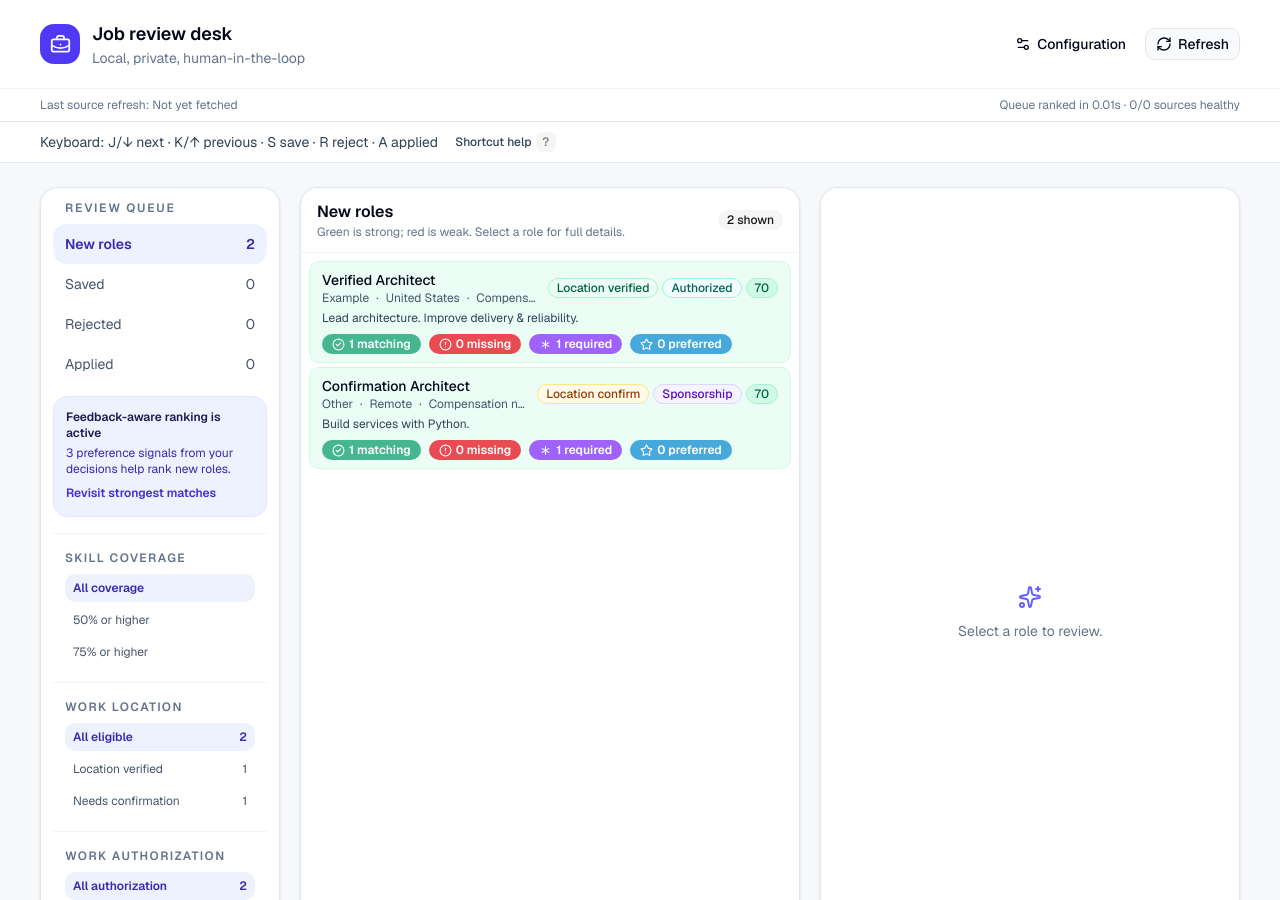
Scenario: review queue interactions › drills into distinct roles from the selected company and returns to the queue
Click the button "Verified Architect": [550, 312] box [309,261,791,363]
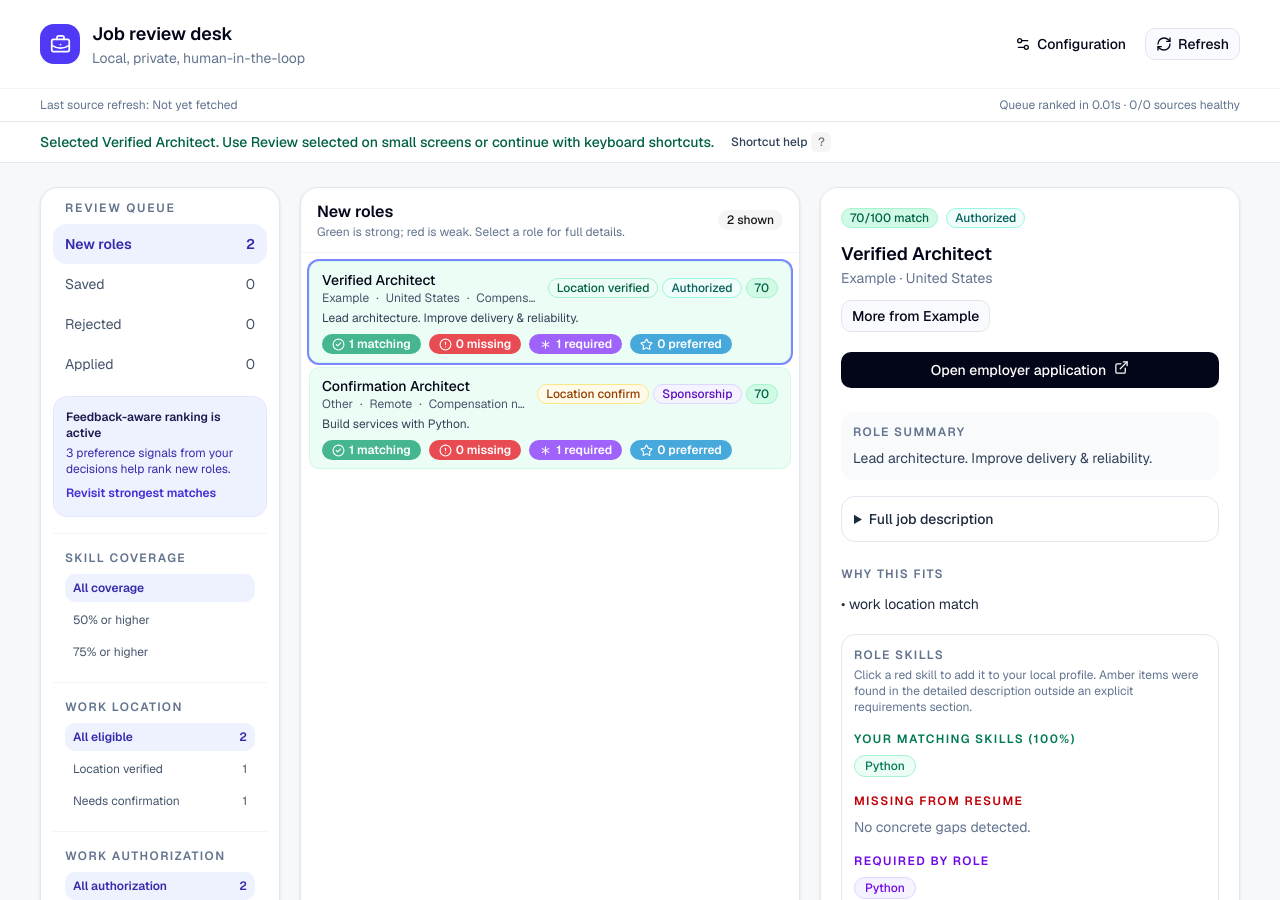
Click the button "More from Example": [916, 316] box [841,300,990,332]
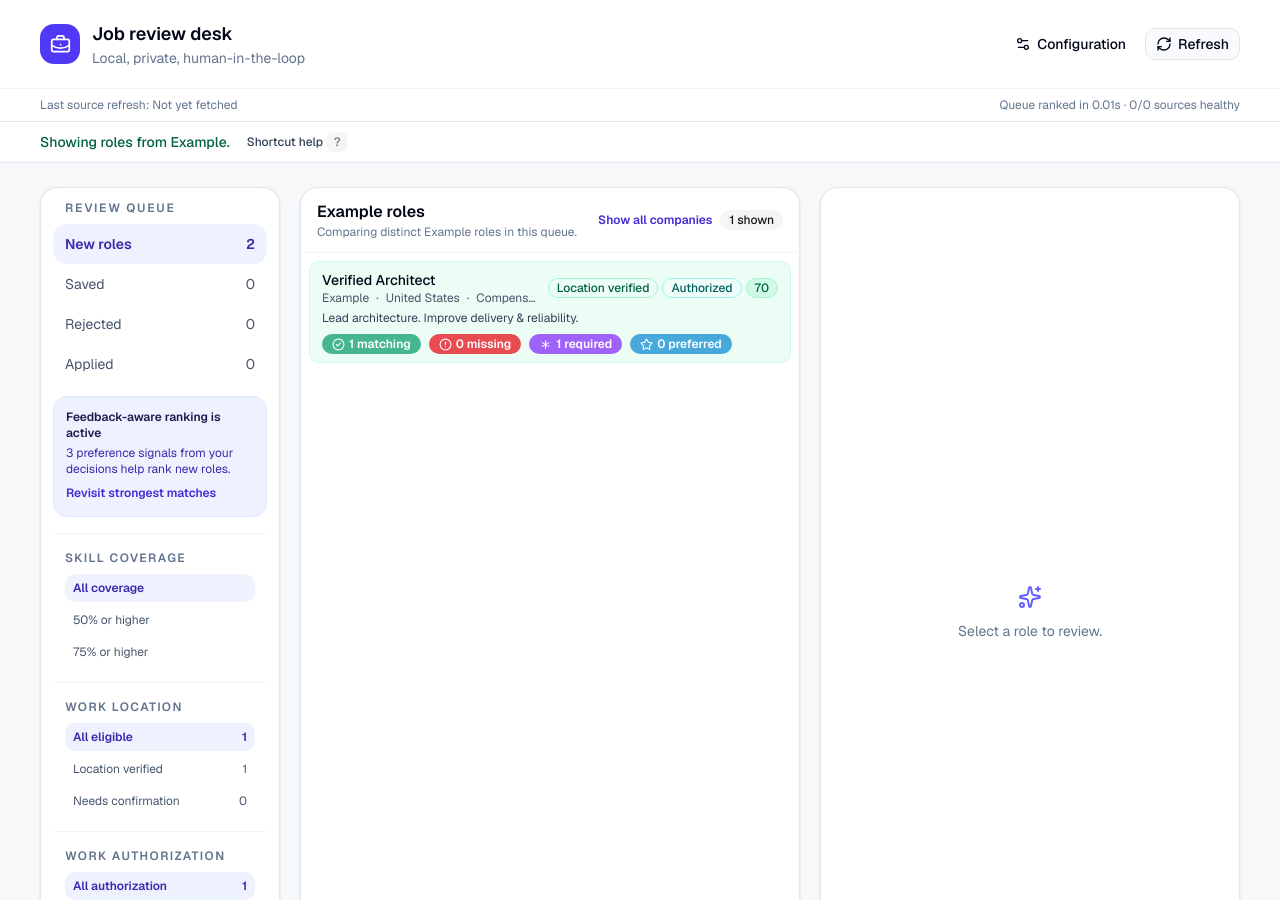
Expected: the heading "Example roles" is shown, [317,201,425,222]
Expected: the button "Confirmation Architect" is gone
Click the button "Show all companies": [655, 220] box [598,212,712,228]
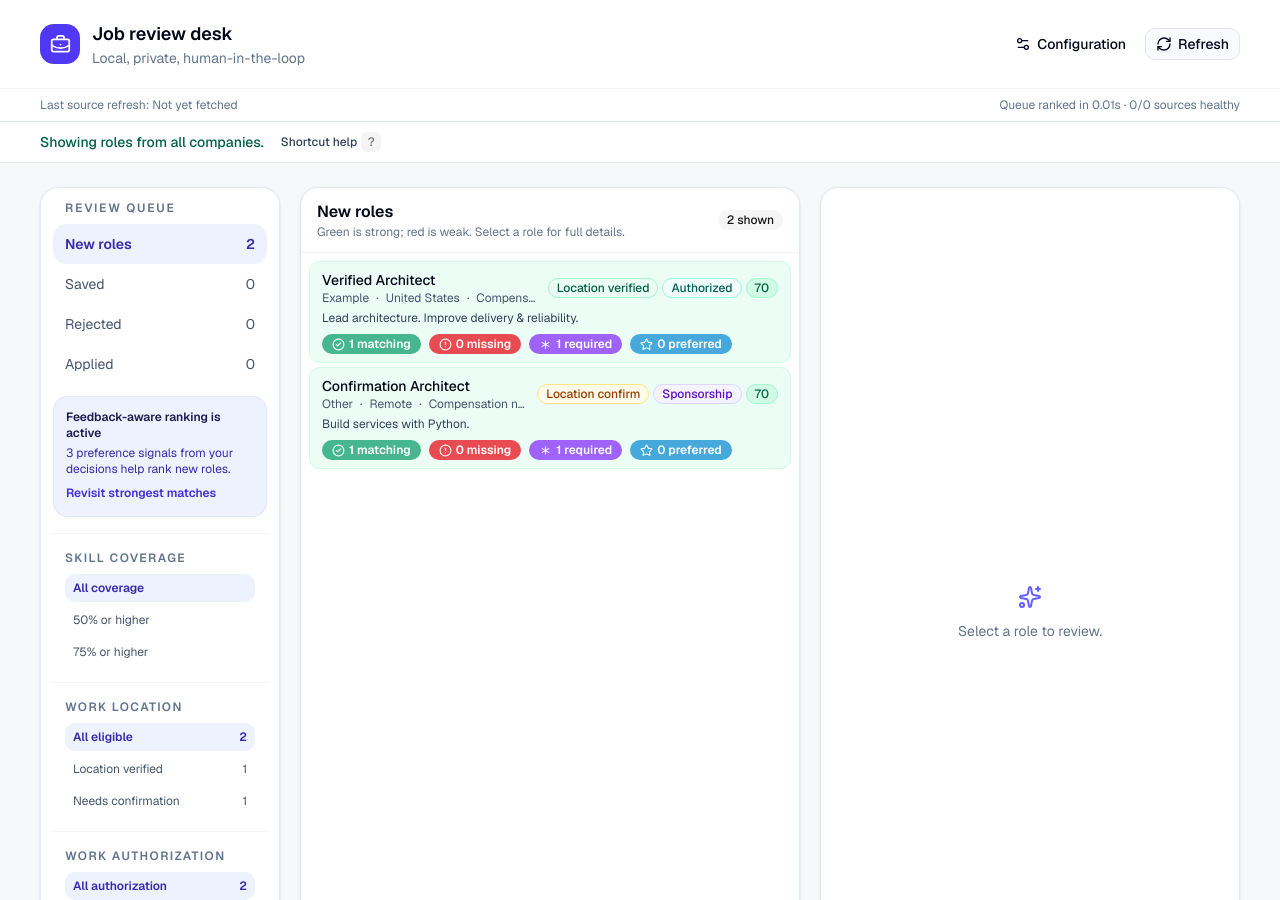
Expected: the heading "New roles" is shown, [317,201,393,222]
